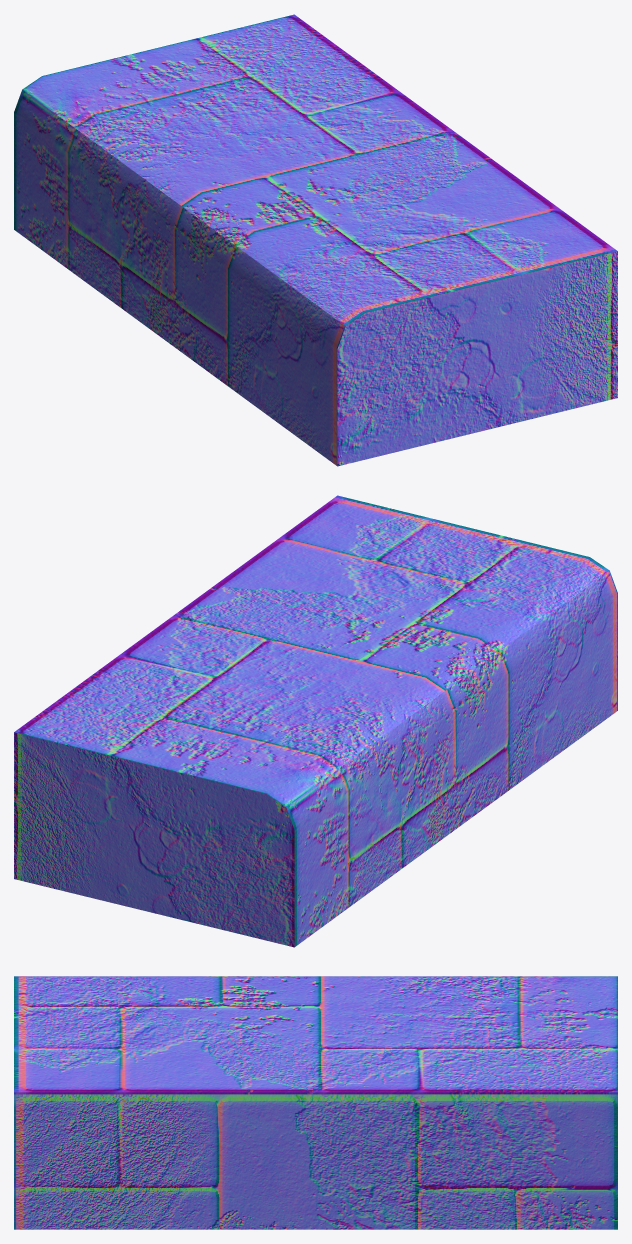
Rendered from step.fbx.
3 renders of one model, top to bottom at view 1: azimuth 30°, elevation 25°; view 2: azimuth 150°, elevation 25°; view 3: azimuth 270°, elevation 25°, orthographic. The views are drawn at different scales.
Visible parts, largest first — view 1: pPlane25; view 2: pPlane25; view 3: pPlane25.
Boxes of the visible parts, x1,y1,x2,y2 form: pPlane25: (14, 14, 617, 466); pPlane25: (14, 495, 617, 947); pPlane25: (14, 976, 617, 1229).
Size of the model in its own units: 100 by 50 by 200.
1 material, 1 textured.
